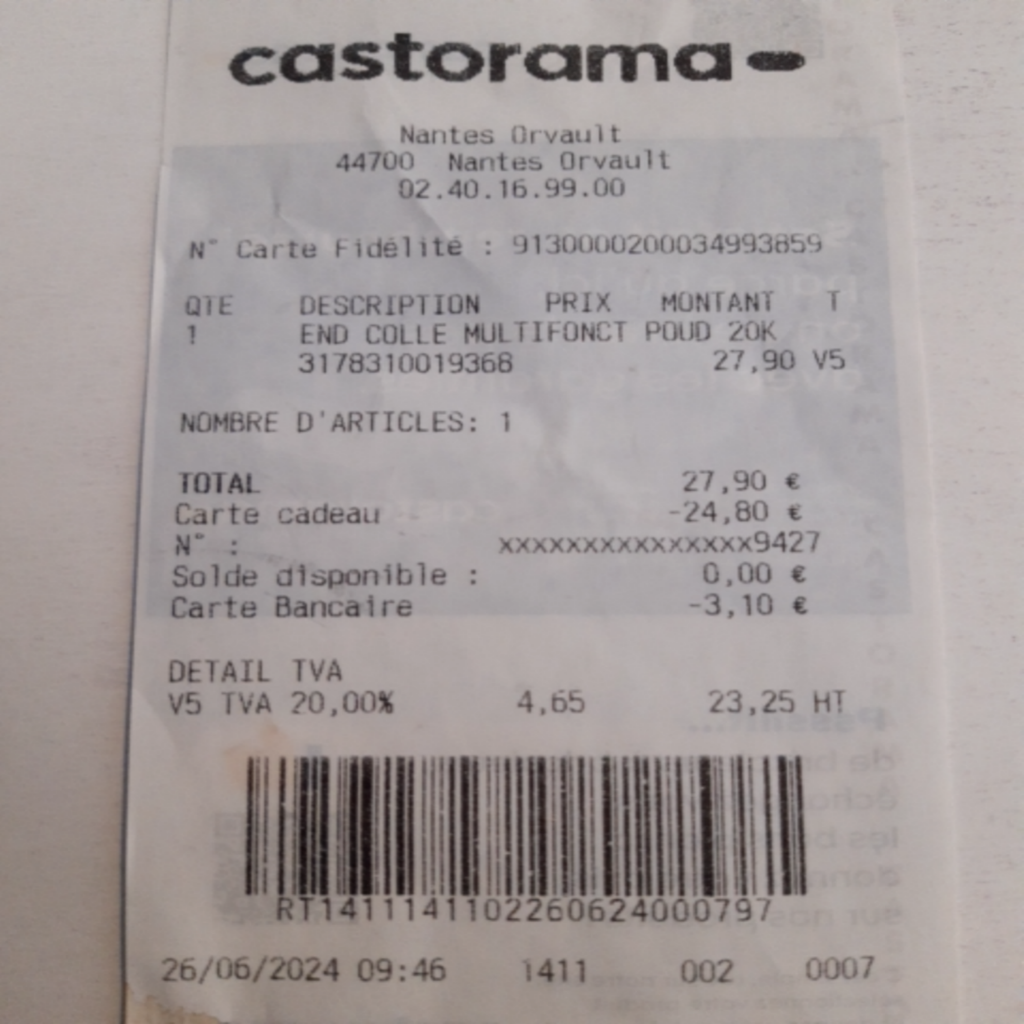recipt: (122, 6, 953, 1009)
